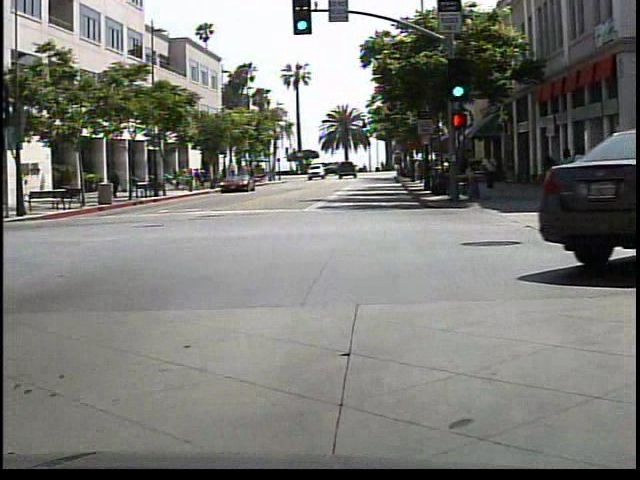person: (477, 150, 500, 195), (107, 163, 125, 202)
